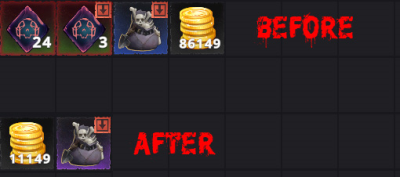gold: (170, 1, 225, 55), (1, 119, 52, 169)
